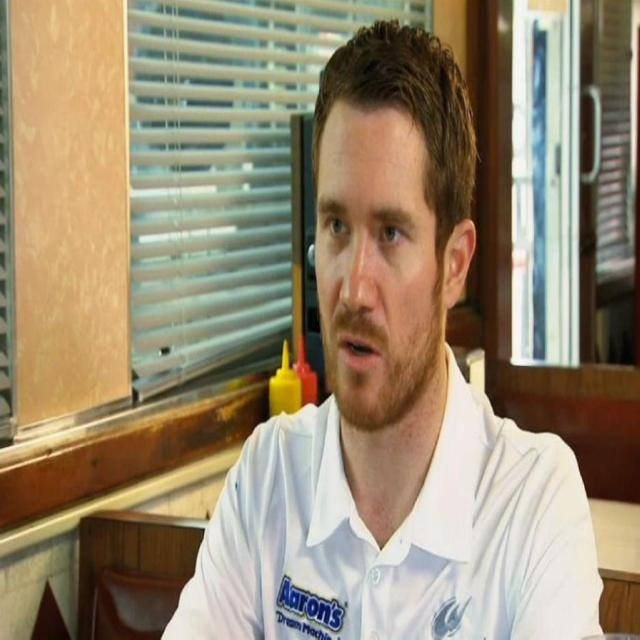Face: (313, 73, 454, 448)
